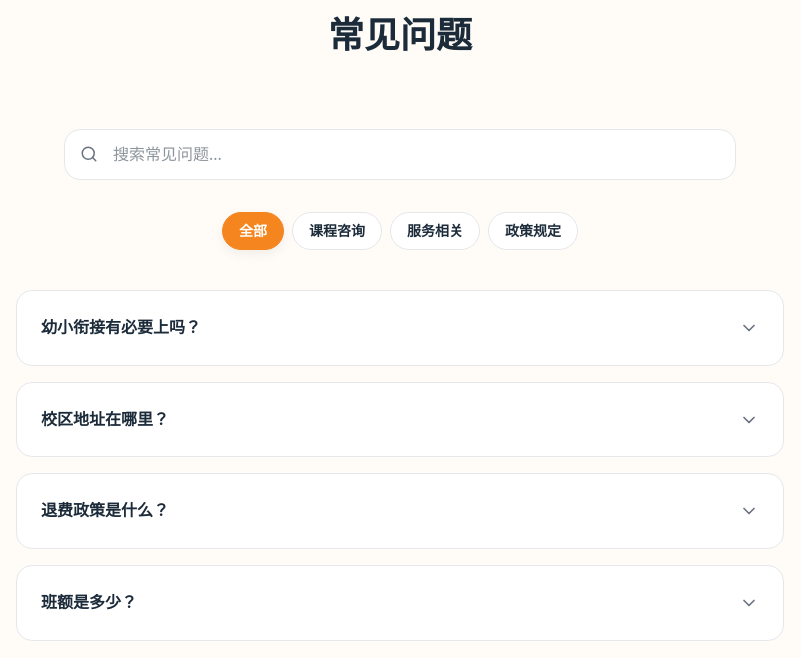
Test: Faq 组件 › 点击"课程咨询"pill 只显示 course 类 FAQ
Step 1. Click the button "课程咨询" → (337, 231), box top-left (292, 212), bottom-right (382, 250)
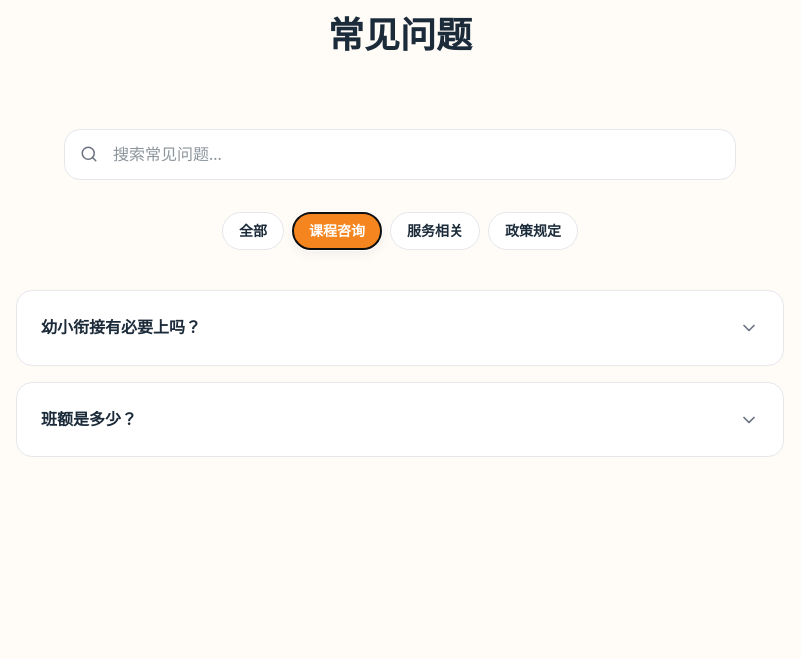
Expected: the text "幼小衔接有必要上吗？" is shown, top-left (41, 315), bottom-right (201, 341)
Expected: the button "校区地址在哪里？" is gone
Expected: the button "退费政策是什么？" is gone
